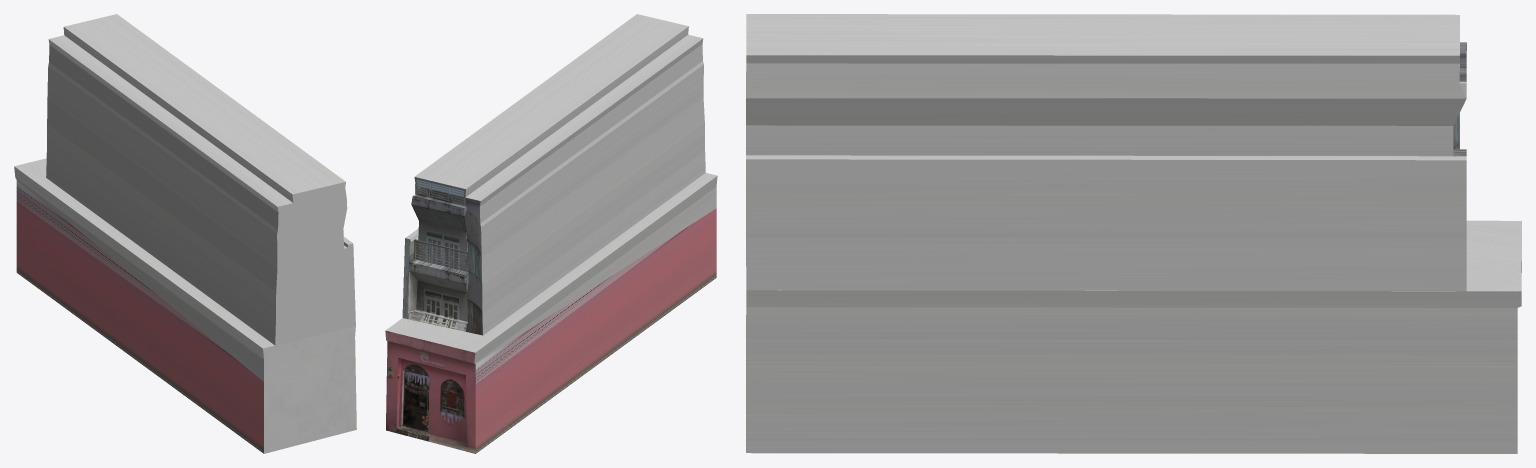
File: RefHouse10.fbx
The picture shows the model from 3 angles, left to right: view 1: azimuth 30°, elevation 25°; view 2: azimuth 150°, elevation 25°; view 3: azimuth 270°, elevation 25°; orthographic projection. The views are drawn at different scales.
Parts seen in each view (by area): view 1: ReferenceHouse10; view 2: ReferenceHouse10; view 3: ReferenceHouse10.
Part boxes in pixels (x1,y1,x2,y2): ReferenceHouse10: [14, 14, 356, 453]; ReferenceHouse10: [385, 14, 717, 453]; ReferenceHouse10: [746, 14, 1521, 453].
Size of the model in its own units: 454 by 1162 by 2078.
Materials: 2 (2 with a texture image).
